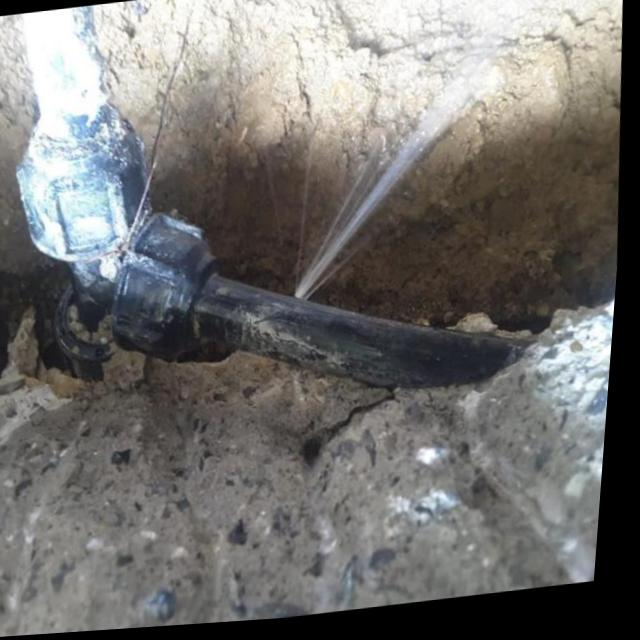leak: (296, 55, 499, 297)
